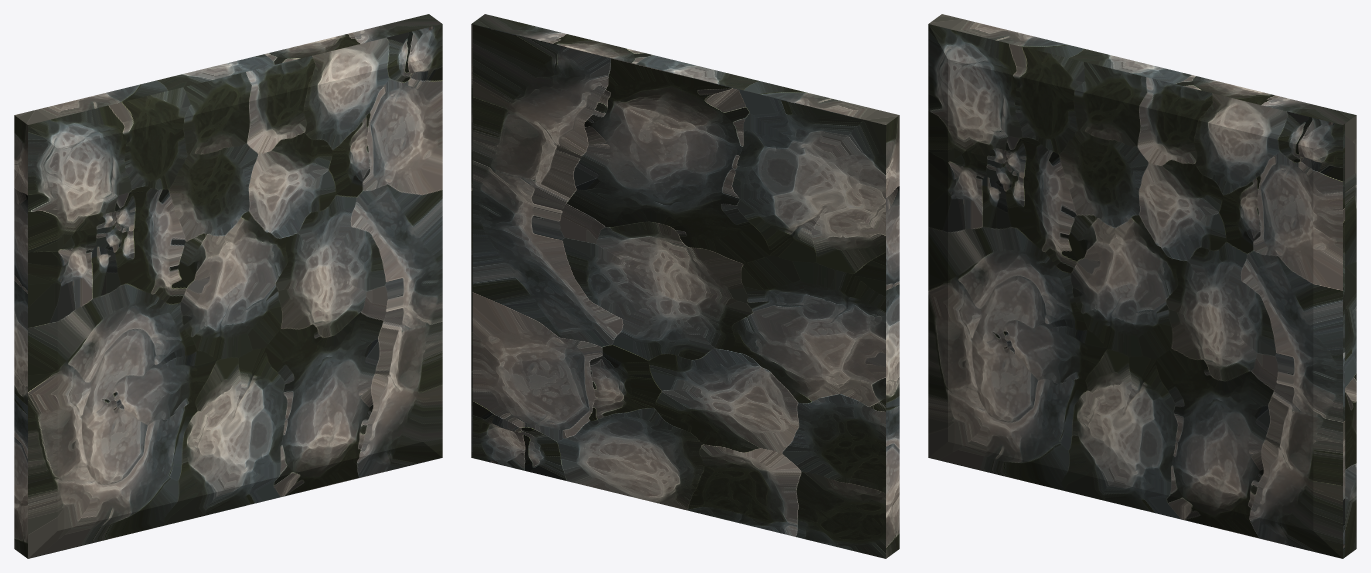
The model's file is groundTile3.obj.
The picture shows the model from 3 angles, left to right: view 1: azimuth 30°, elevation 25°; view 2: azimuth 150°, elevation 25°; view 3: azimuth 330°, elevation 25°; orthographic projection.
Visible parts, largest first — view 1: Cube; view 2: Cube; view 3: Cube.
Boxes of the visible parts, left/top/right/bottom form: Cube: left=14, top=14, right=442, bottom=558; Cube: left=471, top=14, right=899, bottom=558; Cube: left=928, top=14, right=1356, bottom=558.
Bounding box in the file's own units: 1 × 1 × 0.0779.
